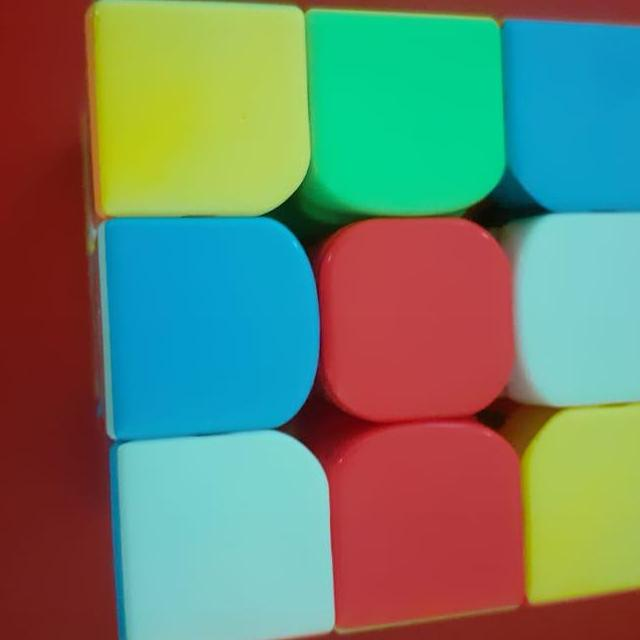Blue: (104, 226, 312, 426), (509, 27, 640, 211)
Green: (312, 15, 496, 200)
Red: (334, 228, 509, 415), (341, 440, 510, 614)
White: (124, 448, 322, 623)
Yellow: (99, 10, 294, 204), (529, 221, 640, 403), (528, 421, 640, 585)
